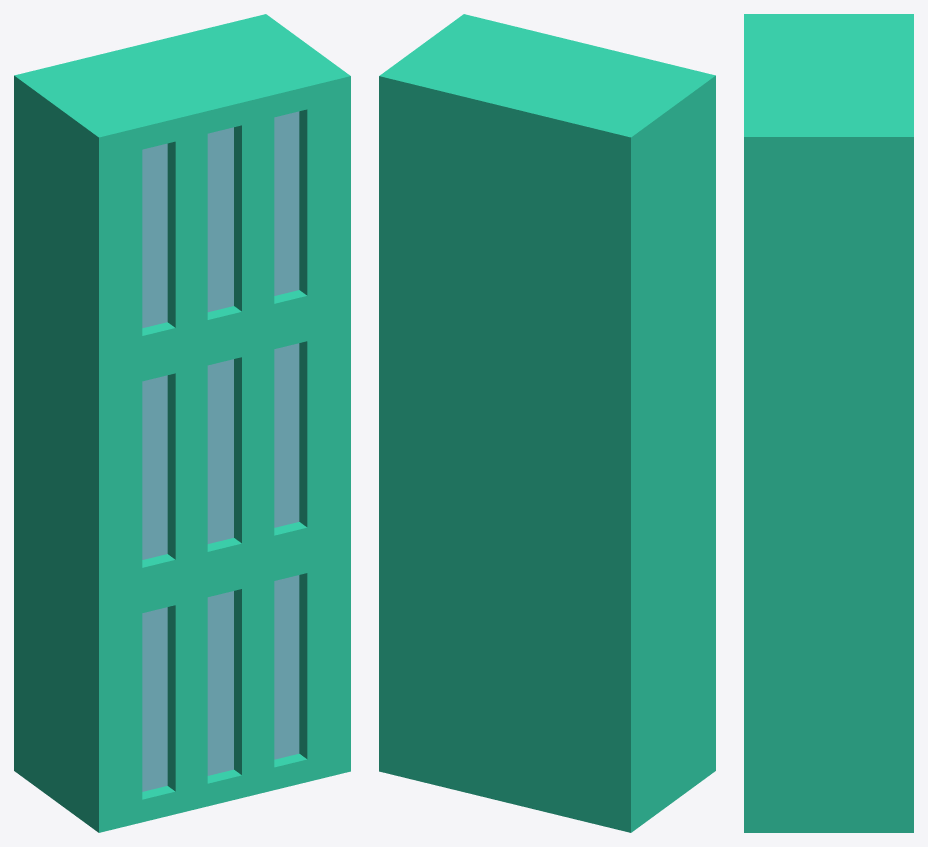
File: F_Building_01.fbx
3 views of the same model, side by side, from view 1: azimuth 30°, elevation 25°; view 2: azimuth 150°, elevation 25°; view 3: azimuth 270°, elevation 25° (orthographic).
Parts seen in each view (by area): view 1: F_Building_01; view 2: F_Building_01; view 3: F_Building_01.
Part boxes in pixels (x1,y1,x2,y2): F_Building_01: (14,14,350,832); F_Building_01: (379,14,715,832); F_Building_01: (744,14,913,832).
Size of the model in its own units: 1007 by 2655 by 587.
